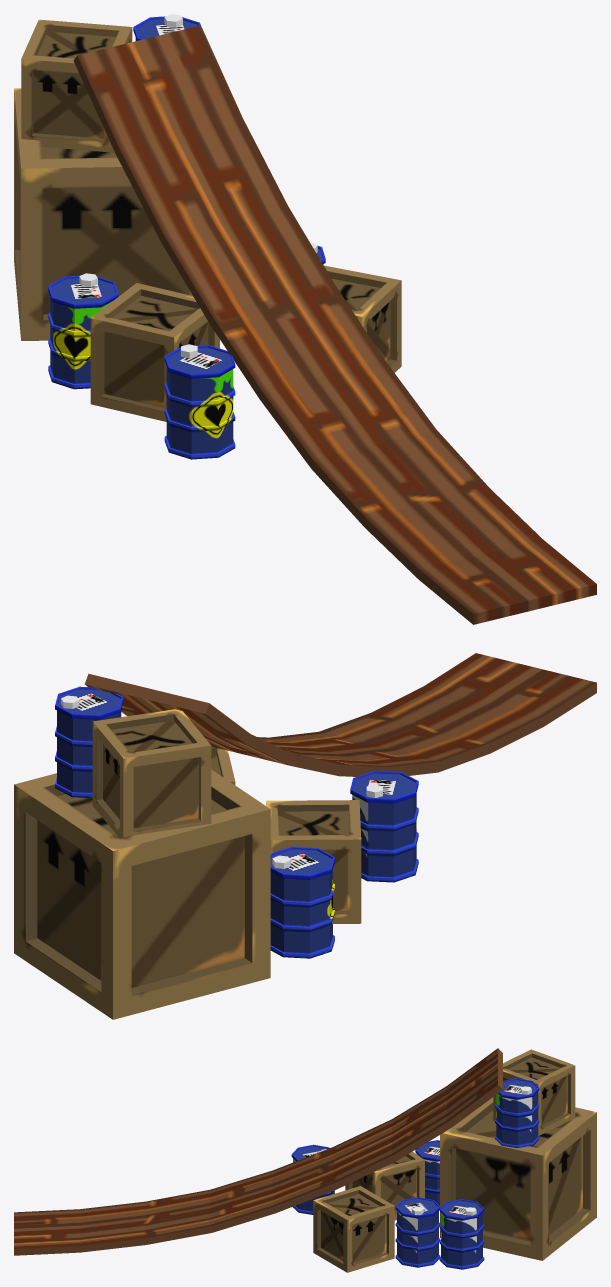
Rendered from roadRampHighTemp.fbx.
3 renders of one model, top to bottom at view 1: azimuth 30°, elevation 25°; view 2: azimuth 150°, elevation 25°; view 3: azimuth 270°, elevation 25°, orthographic. The views are drawn at different scales.
Parts seen in each view (by area): view 1: rampHigh.001|rampHigh|Dupli|, crate.002|woodcrate|Dupli|, crate|woodcrate|Dupli|, crate.004|woodcrate|Dupli|, barrel.004|barrel|Dupli|, barrel.003|barrel|Dupli|, crate.003|woodcrate|Dupli|, barrel.005|barrel|Dupli|; view 2: crate.002|woodcrate|Dupli|, rampHigh.001|rampHigh|Dupli|, crate.004|woodcrate|Dupli|, barrel.003|barrel|Dupli|, crate|woodcrate|Dupli|, barrel.004|barrel|Dupli|, barrel.005|barrel|Dupli|, crate.003|woodcrate|Dupli|; view 3: rampHigh.001|rampHigh|Dupli|, crate.002|woodcrate|Dupli|, crate.003|woodcrate|Dupli|, crate.004|woodcrate|Dupli|, barrel.001|barrel|Dupli|, barrel.002|barrel|Dupli|, barrel.005|barrel|Dupli|, crate|woodcrate|Dupli|, barrel.003|barrel|Dupli|, barrel.004|barrel|Dupli|.
Part boxes in pixels (<box>): rampHigh.001|rampHigh|Dupli|: <box>73,25,596,624</box>; crate.002|woodcrate|Dupli|: <box>14,88,192,340</box>; crate|woodcrate|Dupli|: <box>90,283,219,421</box>; crate.004|woodcrate|Dupli|: <box>21,19,132,152</box>; barrel.004|barrel|Dupli|: <box>164,344,235,459</box>; barrel.003|barrel|Dupli|: <box>48,273,118,389</box>; crate.003|woodcrate|Dupli|: <box>324,265,401,372</box>; barrel.005|barrel|Dupli|: <box>133,14,200,40</box>; crate.002|woodcrate|Dupli|: <box>14,769,270,1019</box>; rampHigh.001|rampHigh|Dupli|: <box>84,653,596,776</box>; crate.004|woodcrate|Dupli|: <box>92,709,211,838</box>; barrel.003|barrel|Dupli|: <box>270,846,334,958</box>; crate|woodcrate|Dupli|: <box>266,800,361,923</box>; barrel.004|barrel|Dupli|: <box>350,770,418,882</box>; barrel.005|barrel|Dupli|: <box>55,686,123,798</box>; crate.003|woodcrate|Dupli|: <box>211,746,235,784</box>; rampHigh.001|rampHigh|Dupli|: <box>14,1048,502,1255</box>; crate.002|woodcrate|Dupli|: <box>440,1097,596,1260</box>; crate.003|woodcrate|Dupli|: <box>313,1186,394,1272</box>; crate.004|woodcrate|Dupli|: <box>493,1049,575,1135</box>; barrel.001|barrel|Dupli|: <box>395,1197,440,1267</box>; barrel.002|barrel|Dupli|: <box>439,1199,484,1269</box>; barrel.005|barrel|Dupli|: <box>495,1078,539,1148</box>; crate|woodcrate|Dupli|: <box>345,1151,424,1220</box>; barrel.003|barrel|Dupli|: <box>415,1140,439,1205</box>; barrel.004|barrel|Dupli|: <box>291,1144,334,1214</box>.
Bounding box in the file's own units: 335 × 324 × 1003.
